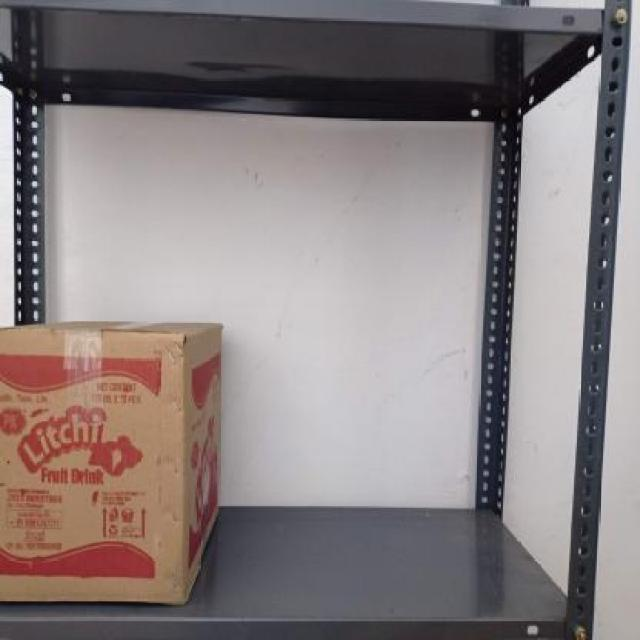box: (0, 332, 185, 608)
